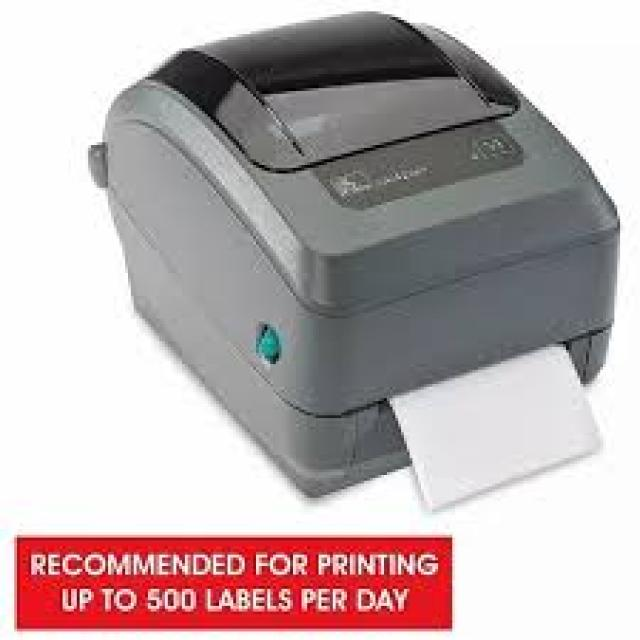printer: (85, 6, 620, 512)
